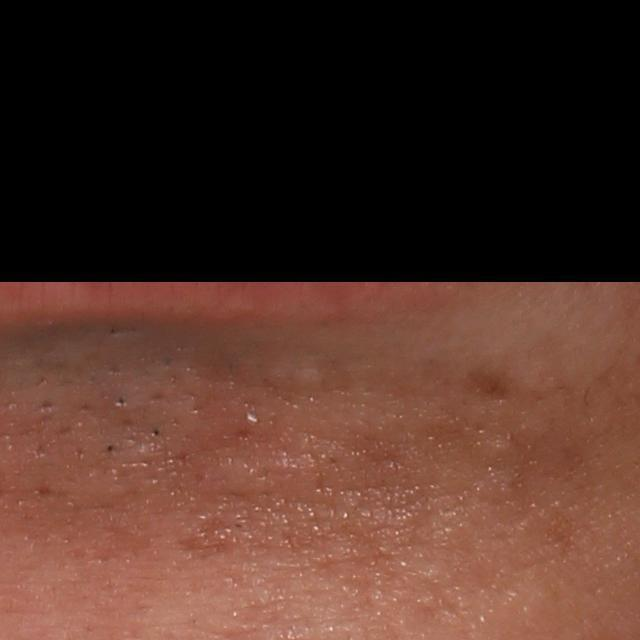hypertrophic_scar: (207, 450, 278, 500), (259, 354, 326, 389)
